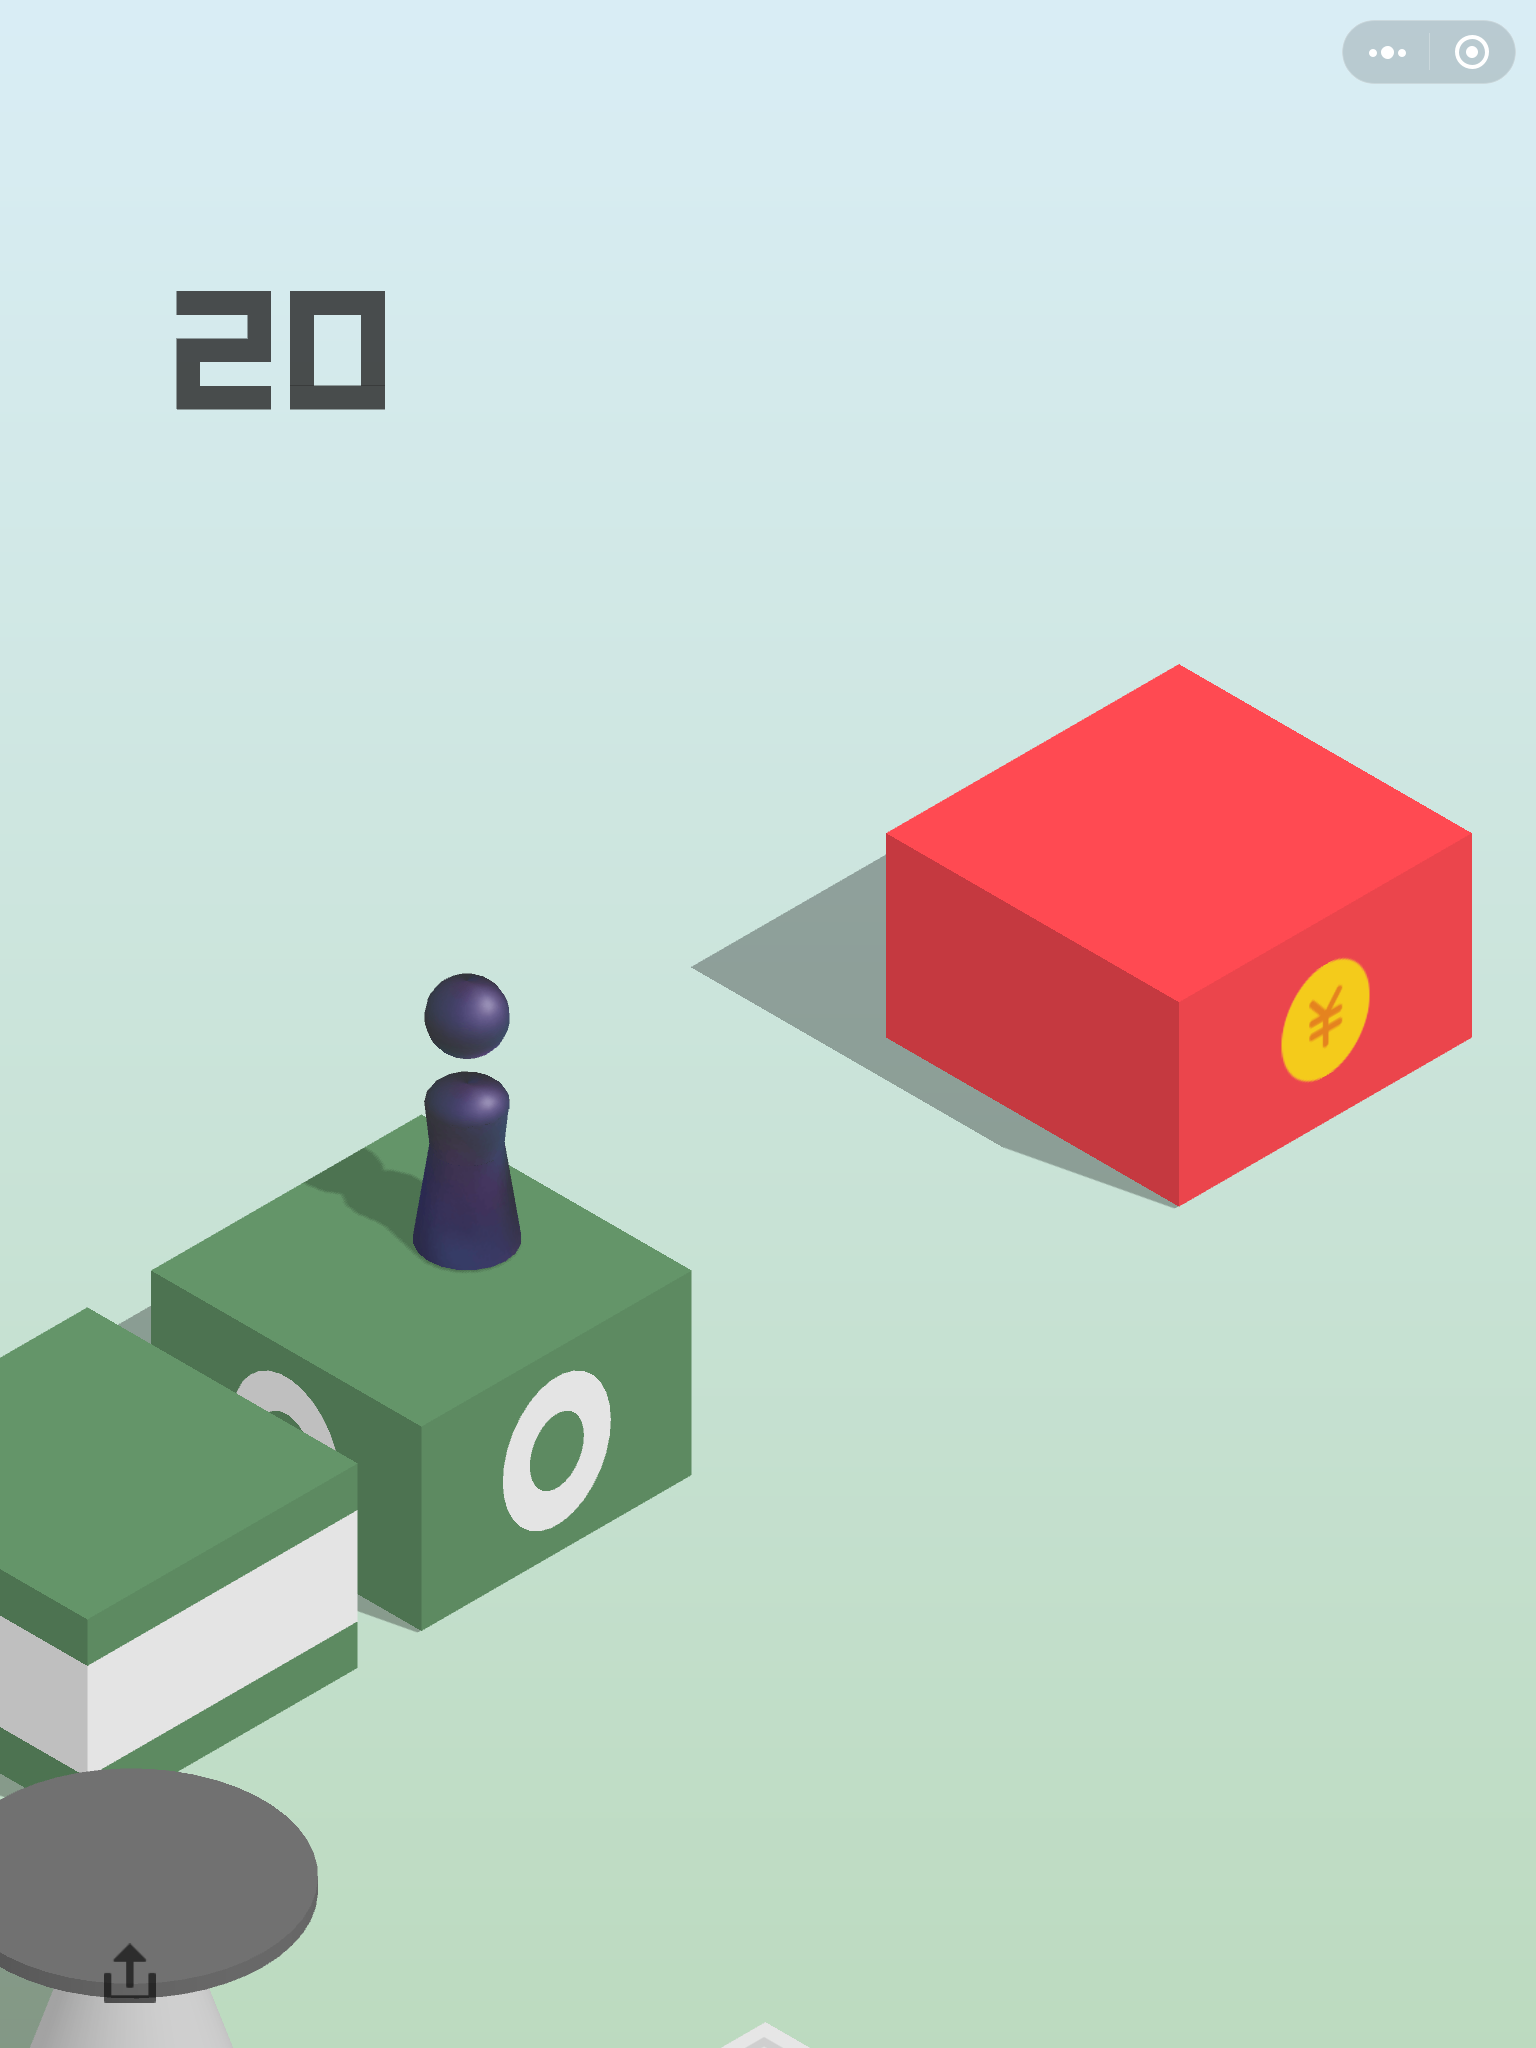c: (2, 1759, 326, 2048)
f: (879, 663, 1475, 1213), (144, 1105, 699, 1632), (2, 1305, 363, 1808)
r: (411, 968, 526, 1277)
